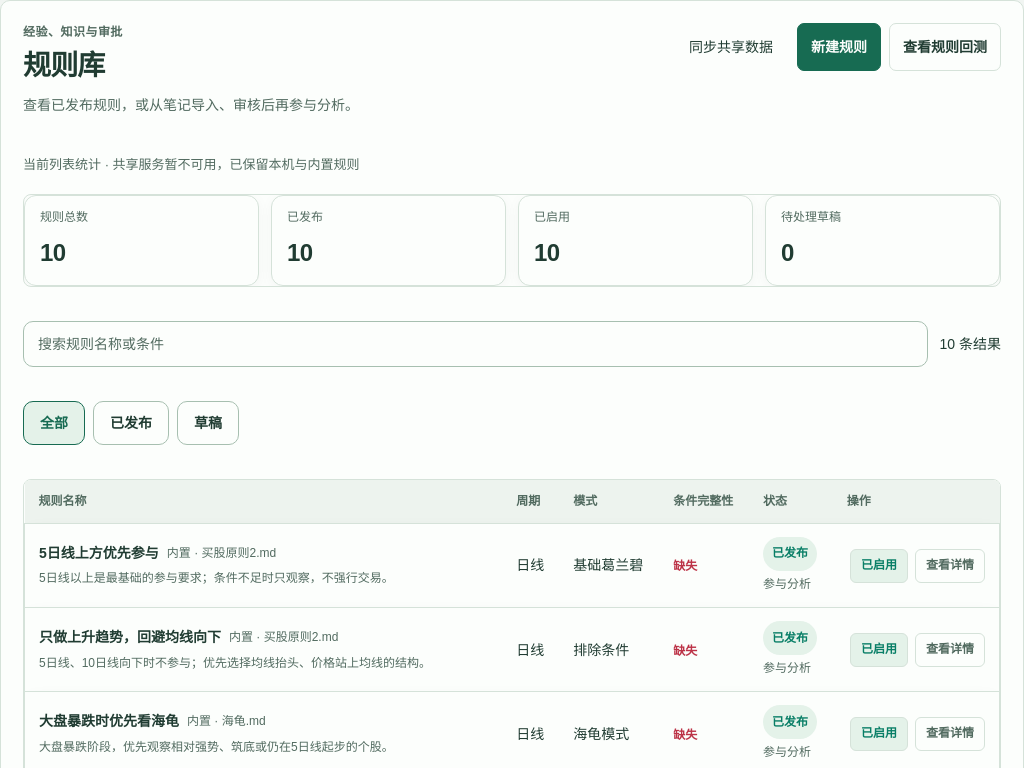
RulesPage interactions › filters the information-flow list by rule name
The width and height of the screenshot is (1024, 768).
Type "海龟" into the search field labelled "搜索规则" at (475, 344), box [23, 321, 928, 367]
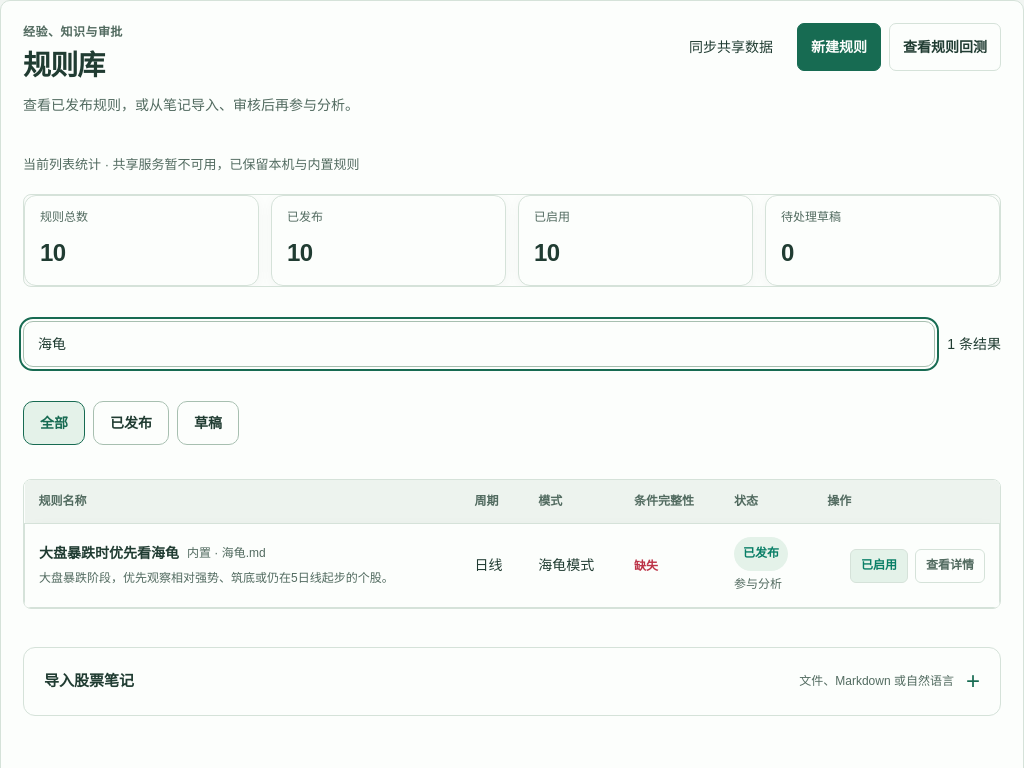
Expected: the heading "大盘暴跌时优先看海龟" is shown, [39, 542, 179, 564]
Expected: the heading "5日线上方优先参与" is gone
